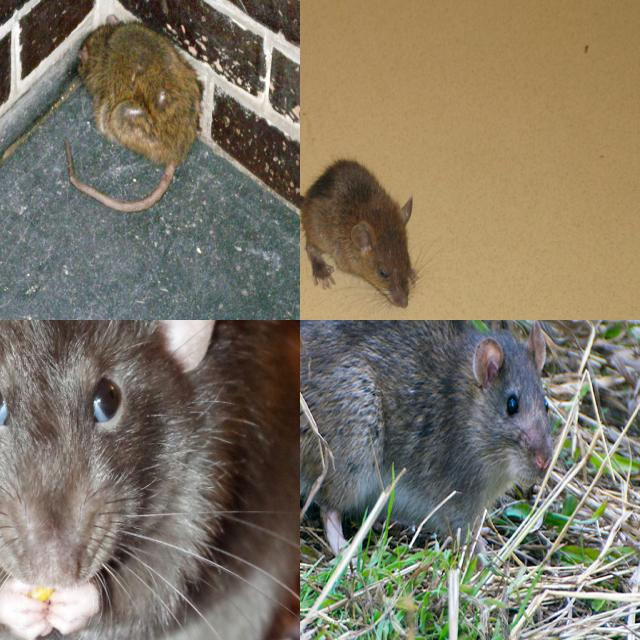rat: (0, 320, 300, 640), (300, 320, 551, 532), (74, 15, 201, 171), (300, 159, 414, 303)
